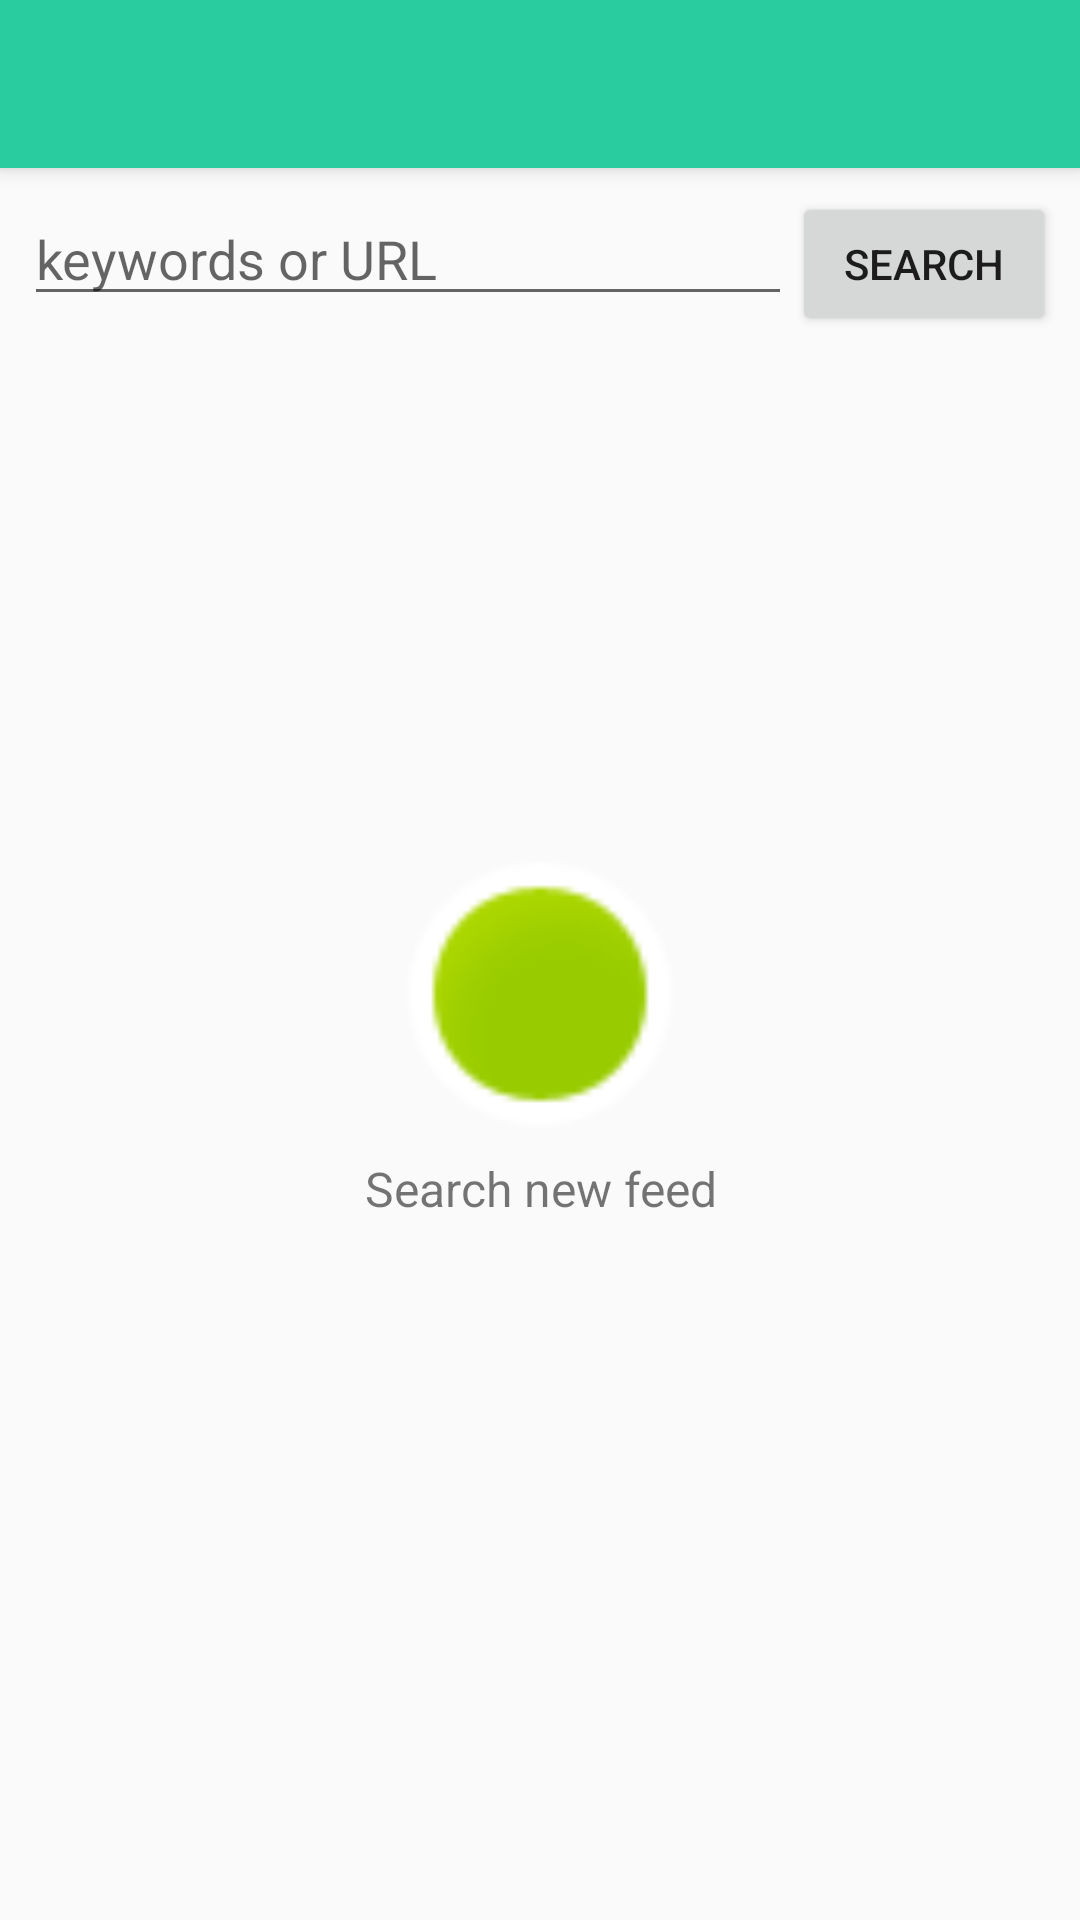

Locate icon controls on the screen. Image size 1080x1920, boxes as rect(x1, y1, x2, y2).
presence online: rect(431, 885, 649, 1103)
